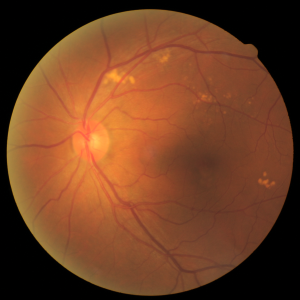retina_disease: (47, 101, 240, 208)
